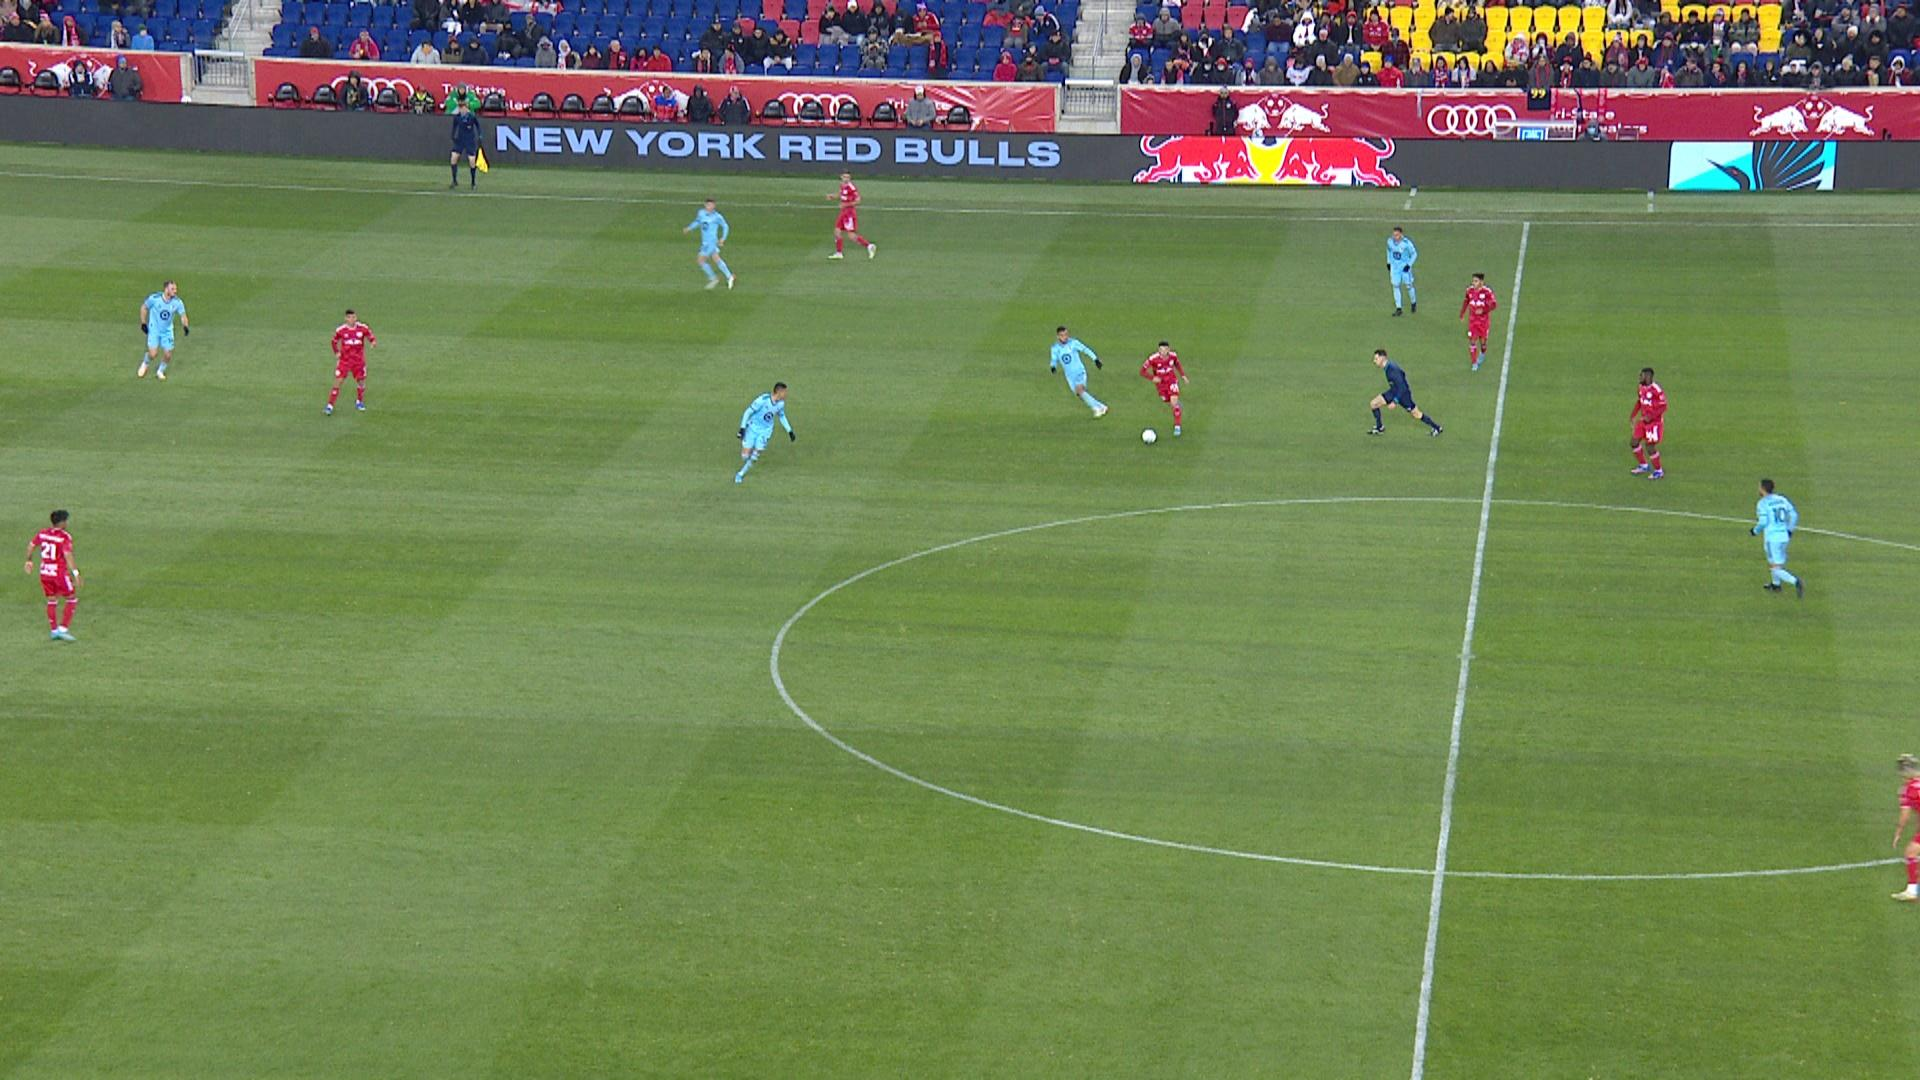football: (1141, 429, 1158, 446)
